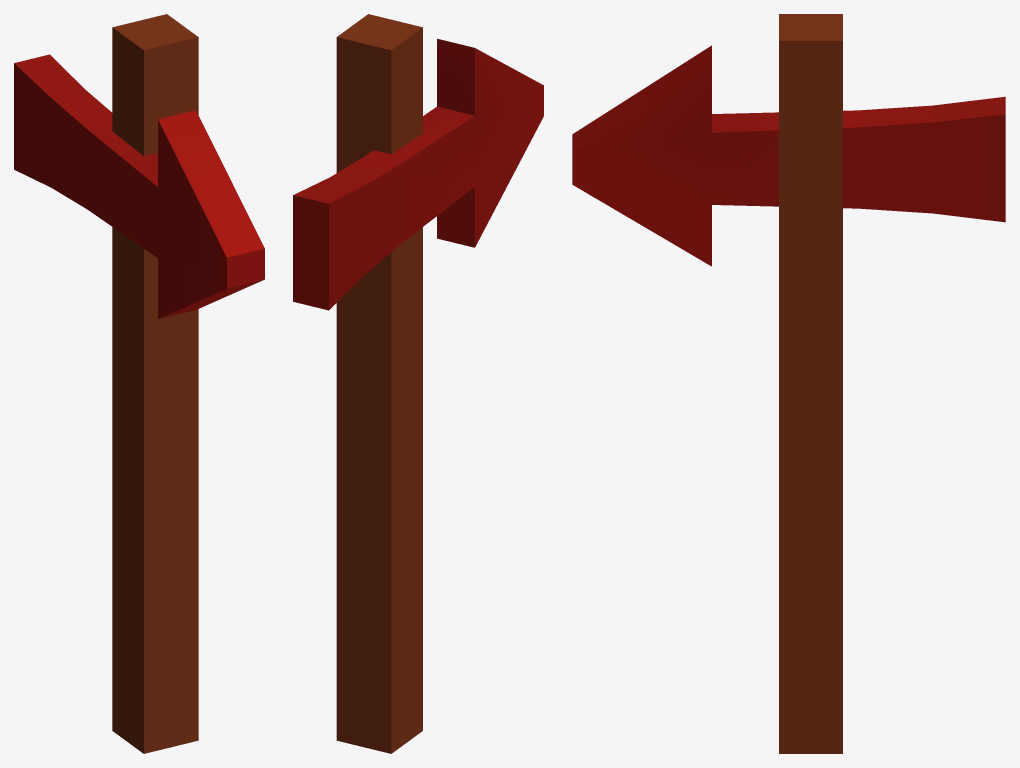
Rendered from Arrow Right.glb.
3 views of the same model, side by side, from view 1: azimuth 30°, elevation 25°; view 2: azimuth 150°, elevation 25°; view 3: azimuth 270°, elevation 25° (orthographic).
Visible parts, largest first — view 1: Arrow Right; view 2: Arrow Right; view 3: Arrow Right.
Boxes of the visible parts, box(x1,y1,x2,y2) form: Arrow Right: box(14, 14, 264, 753); Arrow Right: box(293, 14, 543, 753); Arrow Right: box(572, 14, 1005, 753).
Size of the model in its own units: 0.1866 by 1.71 by 0.9397.
